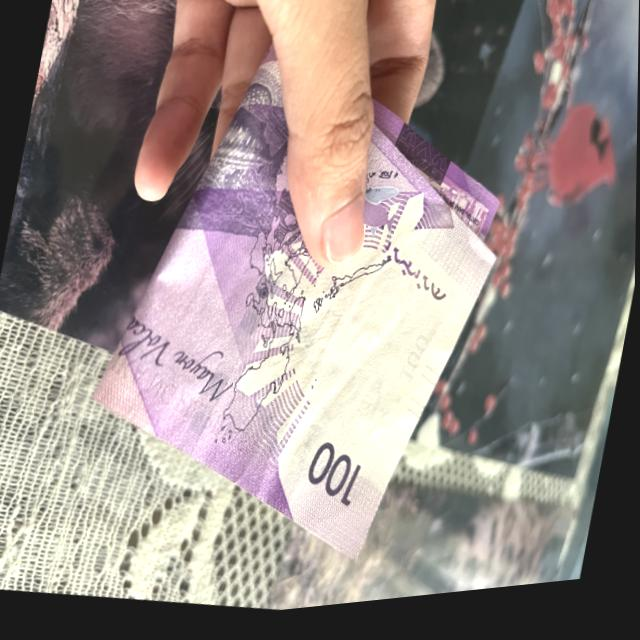value_watermark: (390, 339, 435, 398)
